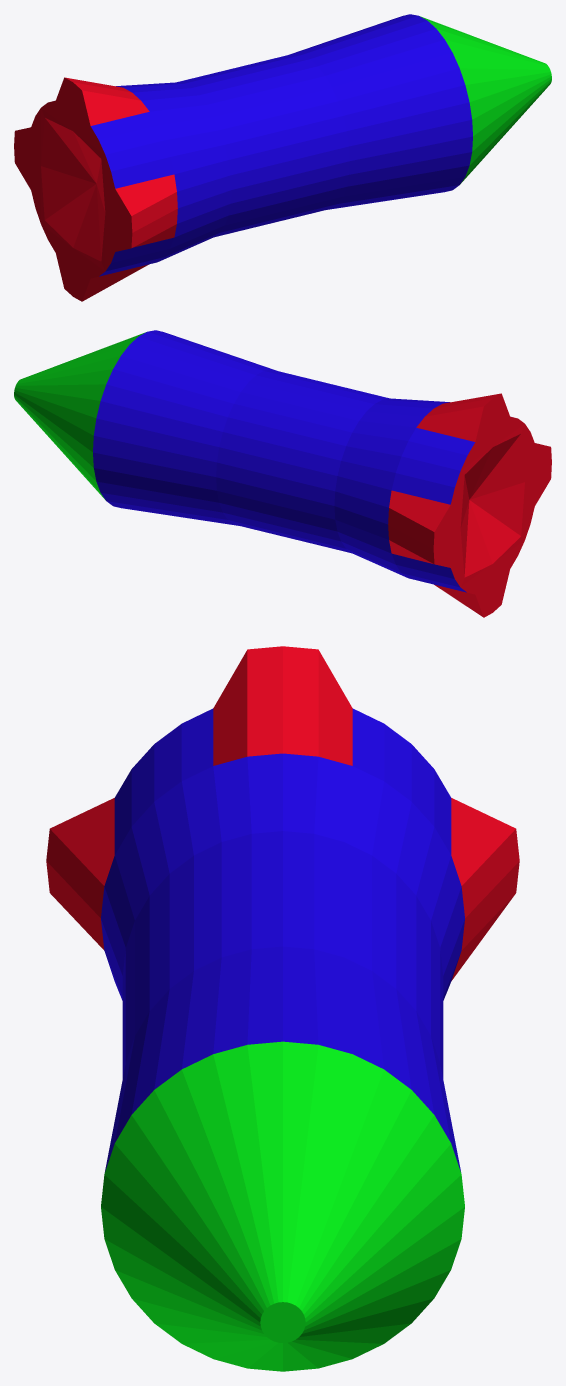
File: Rocket.fbx
3 views of the same model, one above another, from view 1: azimuth 30°, elevation 25°; view 2: azimuth 150°, elevation 25°; view 3: azimuth 270°, elevation 25° (orthographic). The views are drawn at different scales.
Parts seen in each view (by area): view 1: Cylinder; view 2: Cylinder; view 3: Cylinder.
Boxes of the visible parts, x1=… form: Cylinder: x1=14, y1=14, x2=551, y2=301; Cylinder: x1=14, y1=330, x2=551, y2=617; Cylinder: x1=46, y1=646, x2=519, y2=1371.
Size of the model in its own units: 60.01 by 26 by 26.
